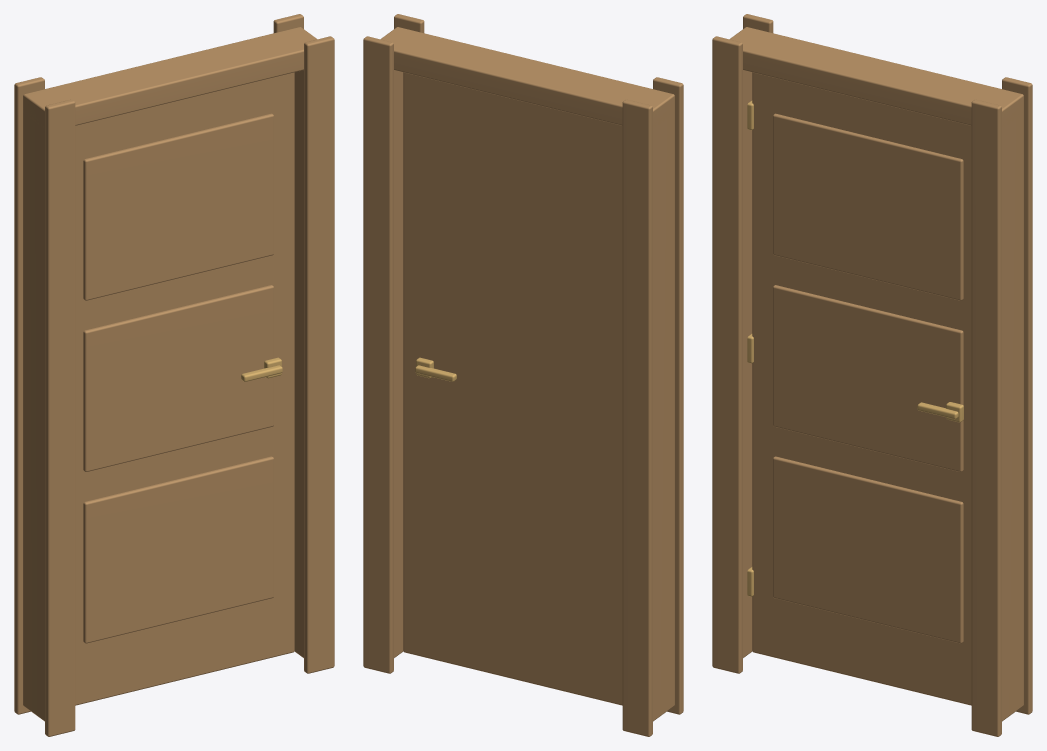
Rendered from door-panelled.glb.
The picture shows the model from 3 angles, left to right: view 1: azimuth 30°, elevation 25°; view 2: azimuth 150°, elevation 25°; view 3: azimuth 330°, elevation 25°; orthographic projection.
Parts seen in each view (by area): view 1: Door leaf.006, Raised panel.010, Raised panel.012, Raised panel.011, Architrave.054, Architrave.052, Jamb.026, Lintel.013, Architrave.053, Jamb.027; view 2: Door leaf.006, Architrave.055, Architrave.053, Jamb.026, Lintel.013, Architrave.052, Jamb.027; view 3: Door leaf.006, Raised panel.010, Raised panel.012, Raised panel.011, Architrave.052, Architrave.054, Jamb.027, Lintel.013, Architrave.055, Jamb.026.
Part boxes in pixels (x1,y1,x2,y2): Door leaf.006: (75, 72, 294, 705); Raised panel.010: (83, 456, 273, 643); Raised panel.012: (83, 113, 273, 300); Raised panel.011: (83, 285, 273, 471); Architrave.054: (304, 36, 334, 673); Architrave.052: (45, 99, 75, 736); Jamb.026: (23, 95, 44, 721); Lintel.013: (23, 27, 317, 127); Architrave.053: (14, 77, 44, 714); Jamb.027: (294, 70, 303, 657); Door leaf.006: (403, 72, 622, 705); Architrave.055: (363, 36, 393, 673); Architrave.053: (622, 99, 652, 736); Jamb.026: (653, 96, 674, 721); Lintel.013: (380, 27, 674, 126); Architrave.052: (653, 77, 683, 714); Jamb.027: (394, 70, 403, 657); Door leaf.006: (752, 72, 971, 705); Raised panel.010: (773, 456, 963, 643); Raised panel.012: (773, 113, 963, 300); Raised panel.011: (773, 285, 963, 471); Architrave.052: (712, 36, 742, 673); Architrave.054: (971, 99, 1001, 736); Jamb.027: (1002, 96, 1023, 721); Lintel.013: (729, 27, 1023, 126); Architrave.055: (1002, 77, 1032, 714); Jamb.026: (743, 70, 752, 657).
Size of the model in its own units: 1.03 by 2.16 by 0.215.
